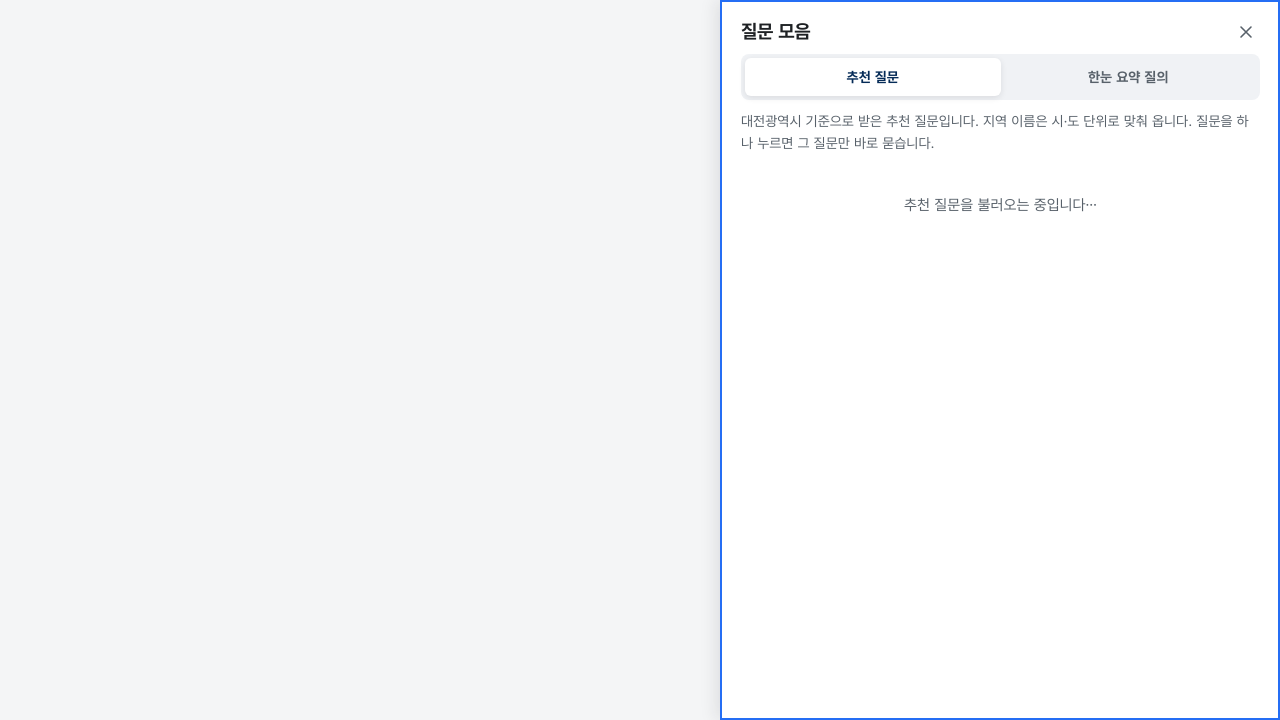
Test case: 질문 모음 「추천 질문」 › 못 받으면 그 사유를, 빈 목록이면 없다고 알린다
Later steps or results of the test are not shown.
Click the tab "추천 질문".
click(873, 77)  # box left=745, top=58, right=1000, bottom=96
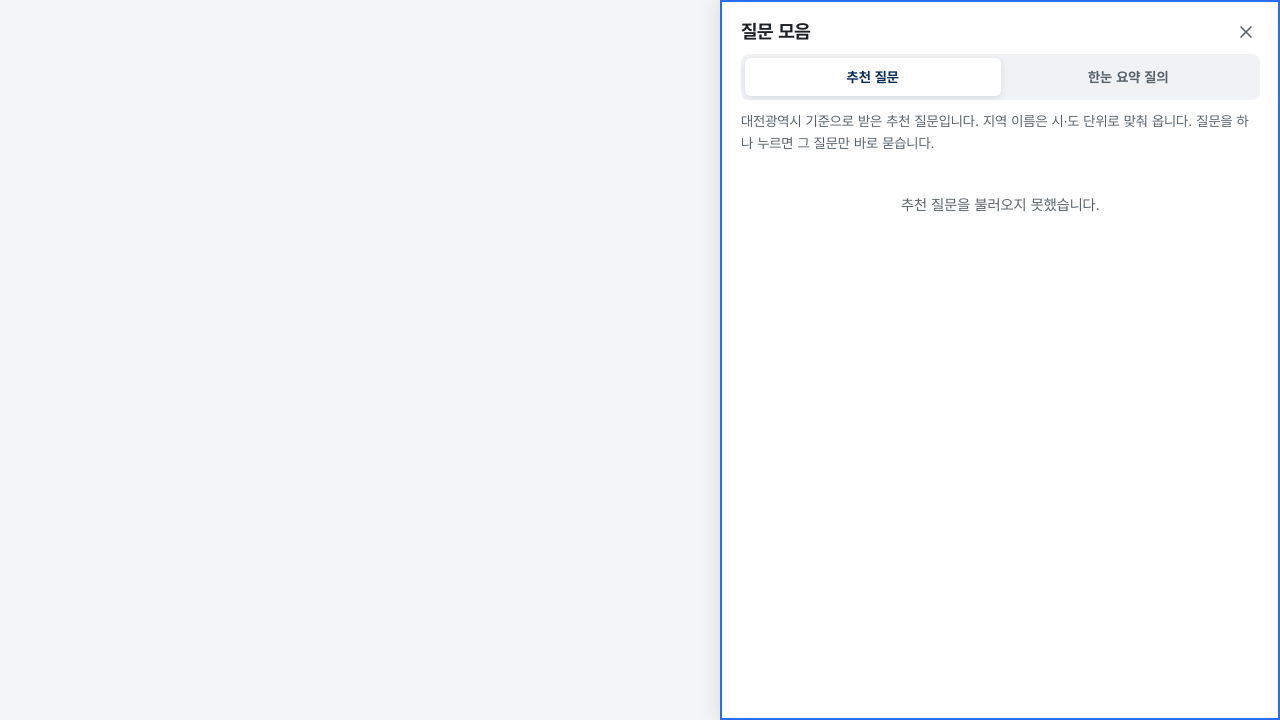
Result: the text "추천 질문을 불러오지 못했습니다." is shown at left=901, top=196, right=1100, bottom=214
